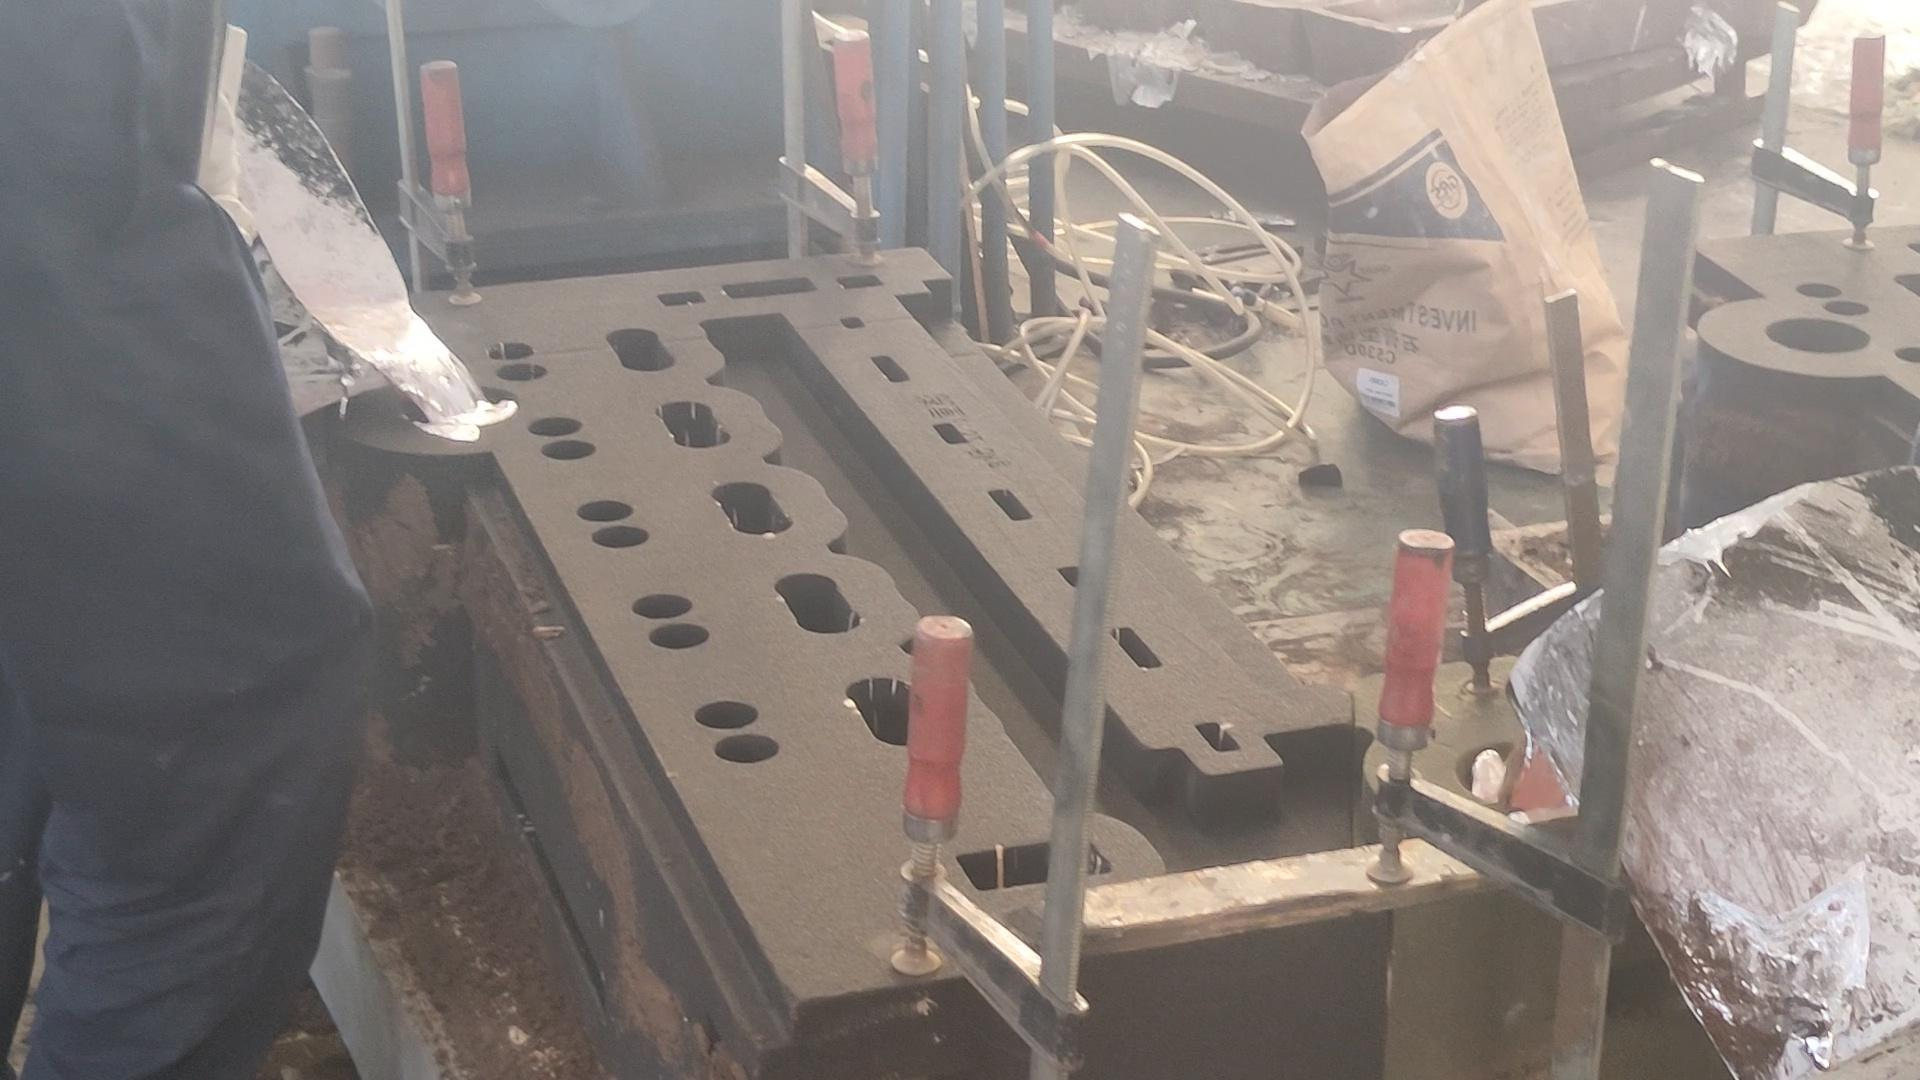pouring hole: (1455, 741, 1576, 800), (400, 382, 518, 426), (1763, 316, 1871, 353)
